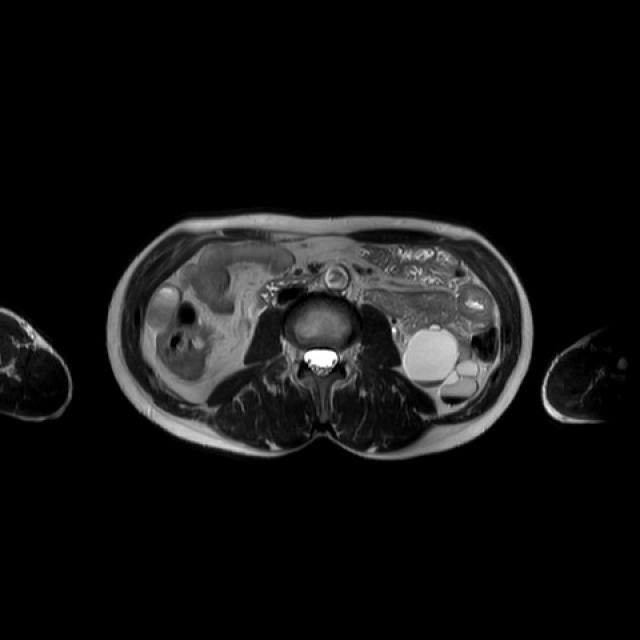sol: (405, 324, 479, 402)
